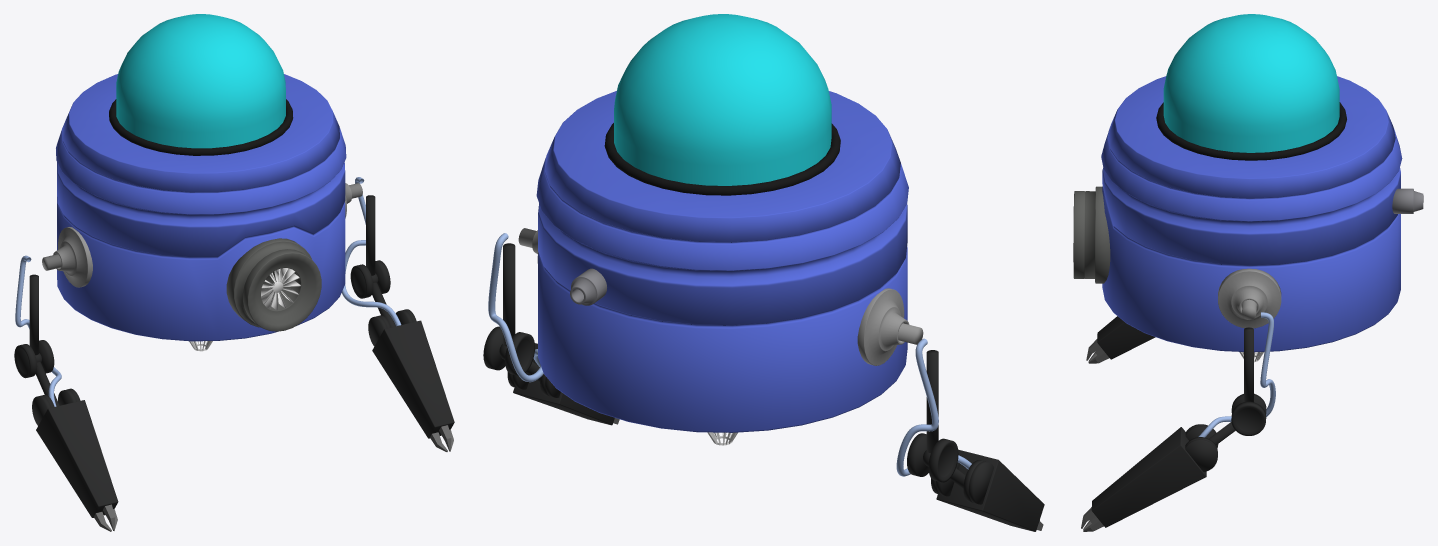
The model's file is Robot.glb.
3 renders of one model, left to right at view 1: azimuth 30°, elevation 25°; view 2: azimuth 150°, elevation 25°; view 3: azimuth 270°, elevation 25°, orthographic. The views are drawn at different scales.
Visible parts, largest first — view 1: A1, A6, A2, A7, A3, A5, NurbsPath, A8, A4; view 2: A1, A6, A2, A3, A5, NurbsPath, A9; view 3: A1, A6, A2, A7, A3, A5, NurbsPath, A9, A4.
Boxes of the visible parts, x1,y1,x2,y2 form: A1: (56, 74, 346, 341); A6: (116, 14, 285, 148); A2: (14, 195, 454, 517); A7: (226, 238, 321, 331); A3: (42, 183, 362, 287); A5: (109, 99, 293, 155); NurbsPath: (15, 177, 401, 406); A8: (261, 268, 300, 310); A4: (94, 425, 453, 531); A1: (536, 91, 908, 432); A6: (614, 14, 831, 185); A2: (483, 243, 1044, 531); A3: (518, 228, 923, 365); A5: (604, 123, 840, 195); NurbsPath: (488, 233, 971, 476); A9: (570, 268, 606, 305); A1: (1101, 76, 1402, 352); A6: (1163, 14, 1339, 152); A2: (1091, 316, 1266, 527); A7: (1073, 186, 1110, 283); A3: (1218, 268, 1281, 328); A5: (1156, 102, 1346, 160); NurbsPath: (1198, 312, 1275, 437); A9: (1392, 188, 1423, 213); A4: (1081, 339, 1109, 531).
Size of the model in its own units: 3.14 by 3.31 by 2.48.
